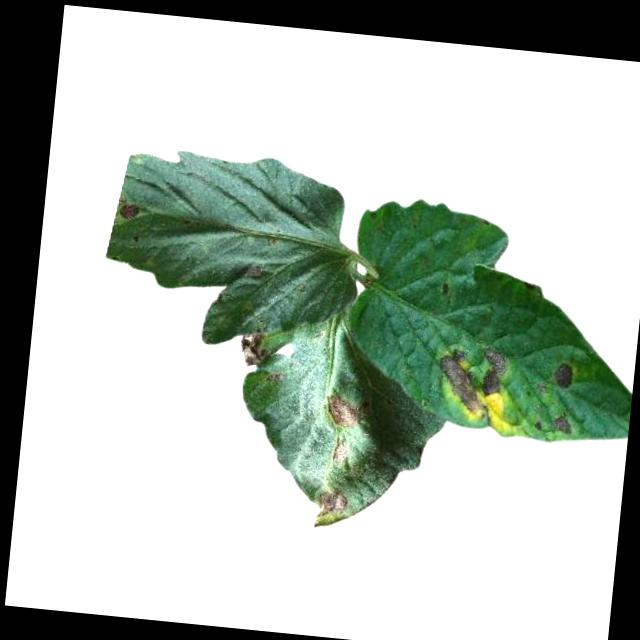Early_blight: (434, 340, 510, 419), (322, 392, 360, 431), (235, 329, 269, 371), (314, 488, 348, 520), (553, 360, 578, 393), (552, 408, 573, 439), (119, 200, 143, 224), (330, 435, 346, 463), (245, 262, 262, 285)
